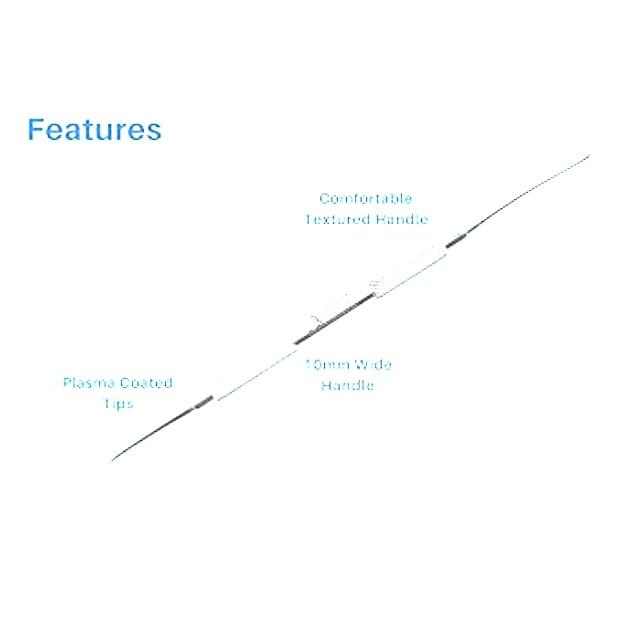elevador: (108, 153, 592, 465)
